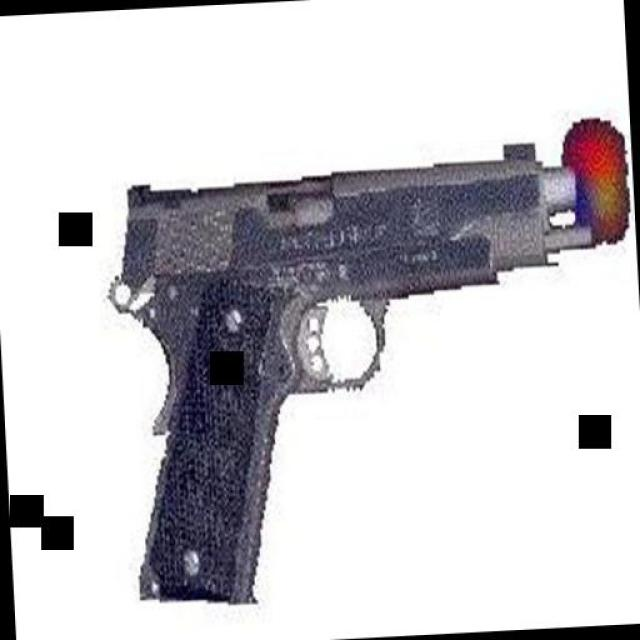gun: (103, 127, 615, 612)
